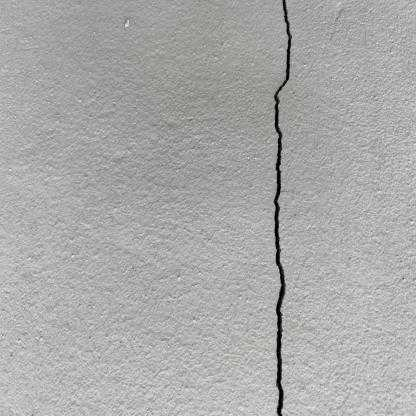crack: (273, 0, 292, 416)
